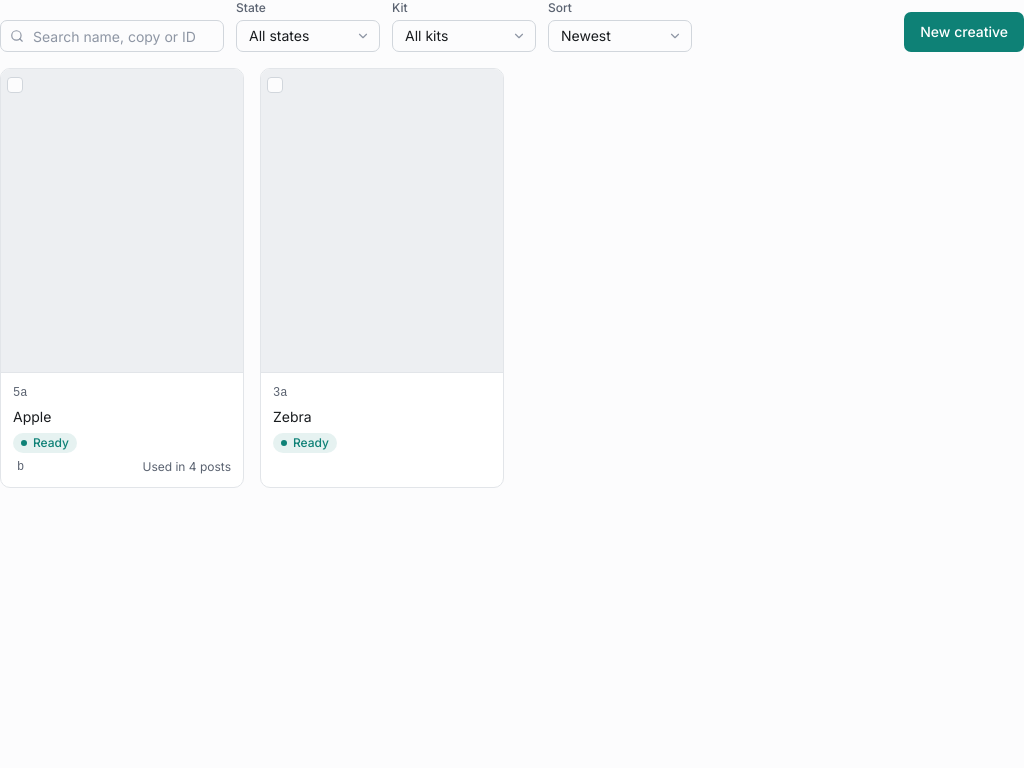
Test case: CreativeLibraryGrid › browse, usage and bulk delete › multi-selects with shift range and deletes each family atomically through the server, reporting exactly what stayed and why
The width and height of the screenshot is (1024, 768).
Check: the text "3a" is shown, box [273,384,287,400]
// newest first: 5 then 3
Click the 1st checkbox named "Select 5a" at (15, 85), box [7,77,23,93]
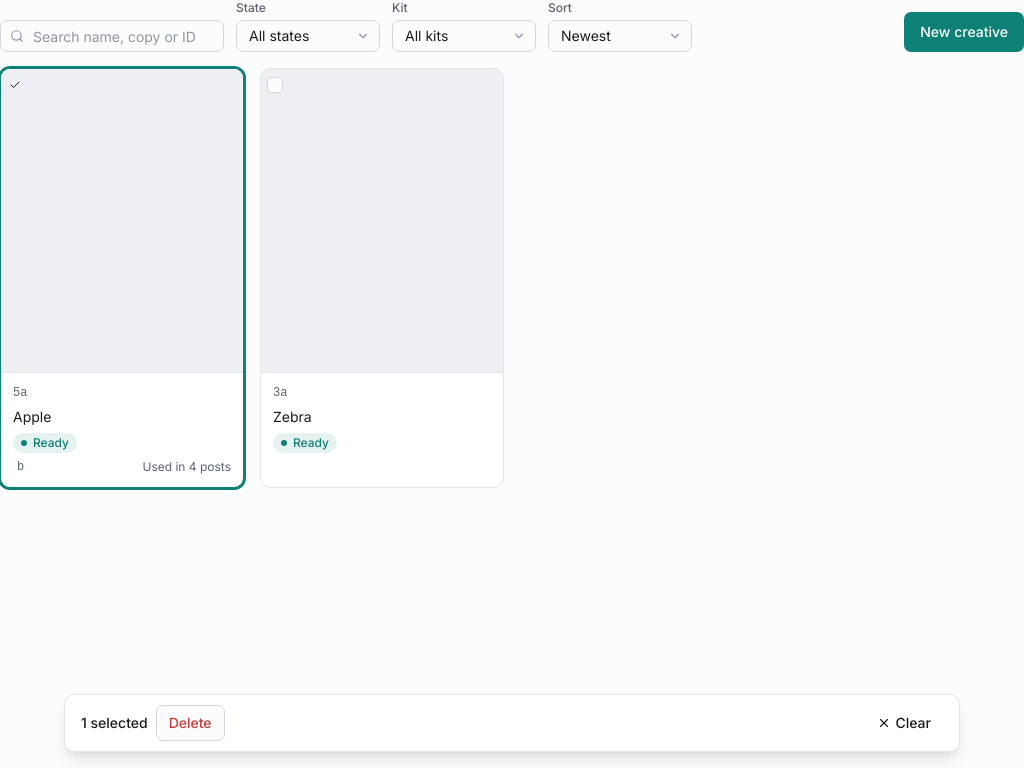
Click the 2nd checkbox named "Select 3a" at (275, 85), box [267,77,283,93]
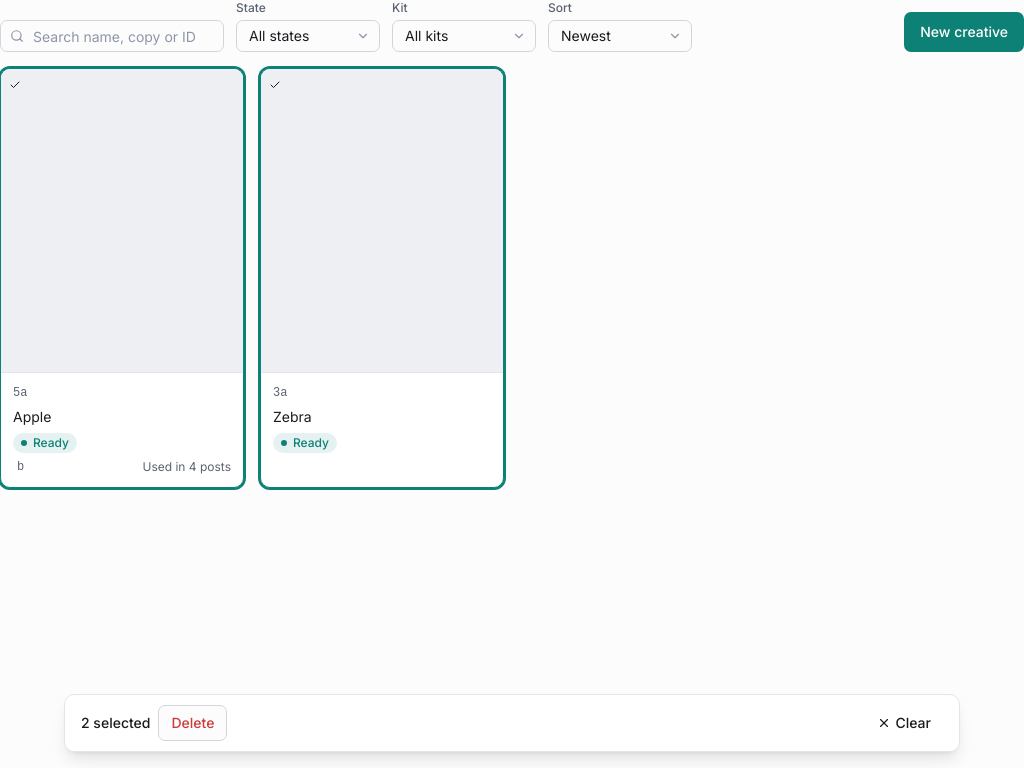
Check: the text "2 selected" is shown, box [81,713,150,733]
Click the button "Delete" at (193, 723), box [158,705,227,741]
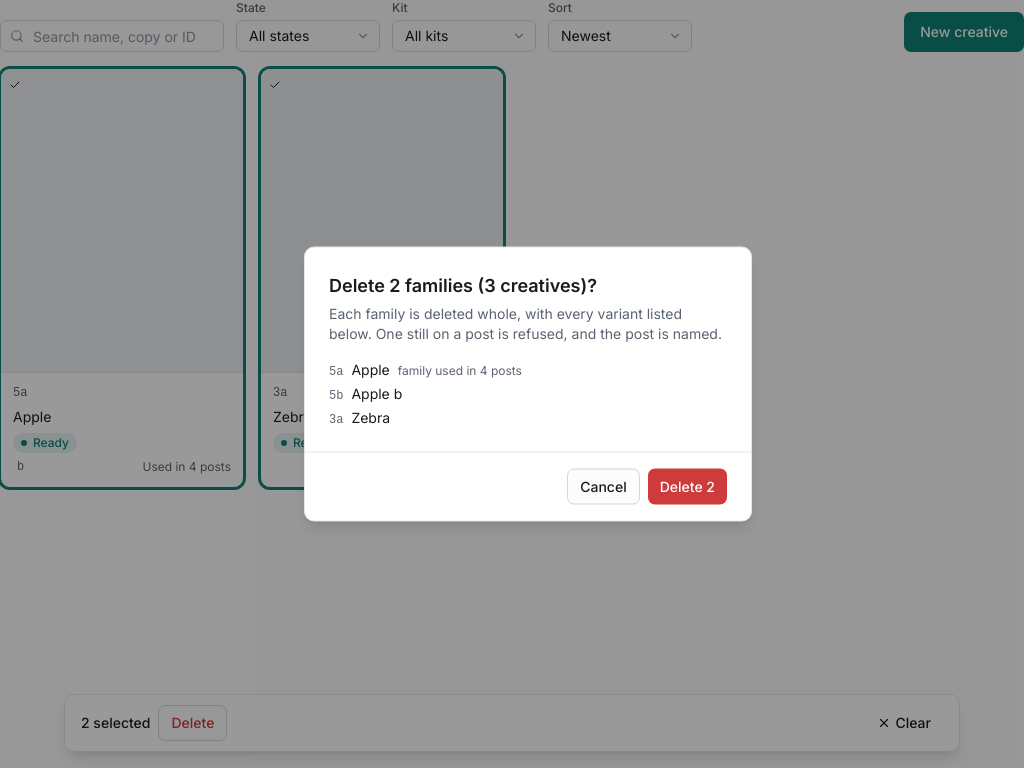
Click the button "Delete 2" at (687, 486), box [648,468,727,504]
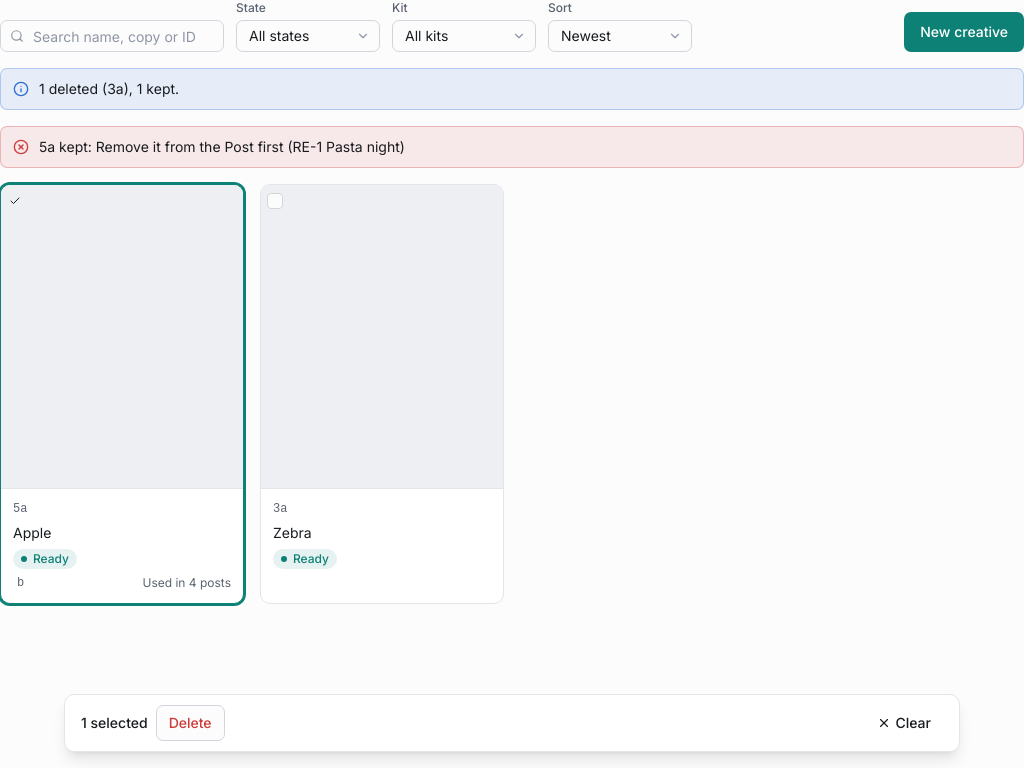
Check: the text "1 deleted (3a), 1 kept." is shown, box [39,79,179,99]
Check: the text "5a kept: Remove it from the Post first (RE-1 Pasta night)" is shown, box [39,137,405,157]
